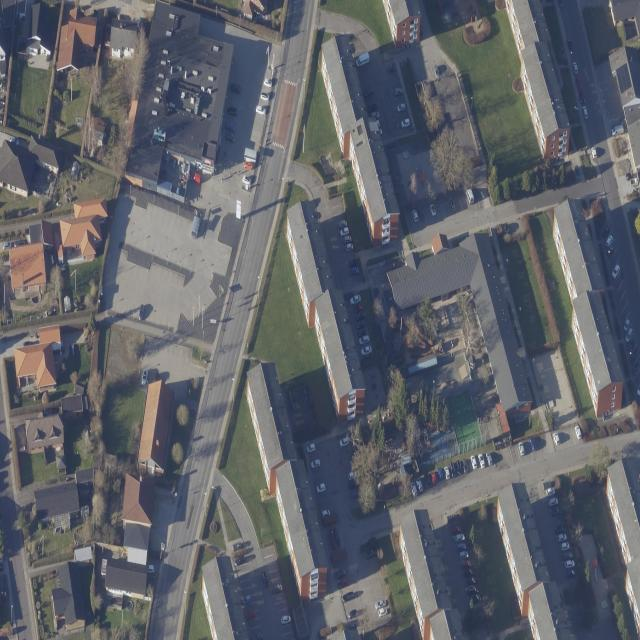car: (341, 590, 355, 603), (261, 570, 270, 589), (363, 85, 374, 100), (611, 263, 620, 281), (255, 104, 267, 117), (349, 294, 362, 306), (448, 197, 457, 214), (625, 326, 634, 343), (280, 614, 292, 626), (374, 598, 386, 610), (339, 226, 352, 237), (393, 85, 404, 98), (230, 83, 242, 94), (272, 584, 283, 596), (310, 458, 321, 470), (315, 483, 327, 494), (347, 608, 358, 620), (339, 436, 350, 448), (242, 174, 252, 187), (360, 346, 373, 356), (358, 335, 371, 345), (410, 482, 418, 498), (529, 436, 537, 452), (418, 206, 426, 222), (602, 224, 610, 240), (141, 368, 148, 386), (605, 234, 614, 248), (227, 106, 238, 117), (243, 160, 254, 171), (548, 497, 559, 508), (555, 523, 566, 534), (400, 118, 411, 129), (224, 133, 236, 143), (246, 610, 256, 622), (470, 455, 478, 470), (396, 102, 406, 114), (139, 303, 145, 322), (424, 473, 431, 489), (449, 461, 456, 477), (478, 454, 486, 468), (518, 441, 525, 457), (575, 425, 582, 441), (263, 78, 273, 89), (226, 122, 237, 132), (241, 594, 252, 604), (306, 443, 316, 454), (378, 608, 389, 618), (556, 533, 568, 542), (562, 551, 574, 560), (462, 459, 469, 474), (572, 61, 579, 76), (416, 479, 424, 492), (576, 75, 582, 92), (260, 92, 270, 102), (321, 509, 331, 519), (350, 267, 360, 277), (560, 542, 570, 552), (565, 560, 575, 570), (430, 471, 437, 485), (553, 432, 560, 446), (433, 64, 440, 78), (623, 318, 630, 332), (607, 244, 614, 258), (456, 460, 462, 476), (582, 105, 588, 121), (437, 467, 444, 480), (444, 466, 450, 481), (546, 487, 556, 496), (566, 570, 576, 579), (579, 90, 585, 105), (486, 452, 492, 466), (412, 209, 418, 223), (567, 37, 573, 51), (348, 471, 357, 480), (342, 235, 352, 243), (430, 204, 436, 217), (346, 243, 354, 252), (591, 147, 597, 159)
